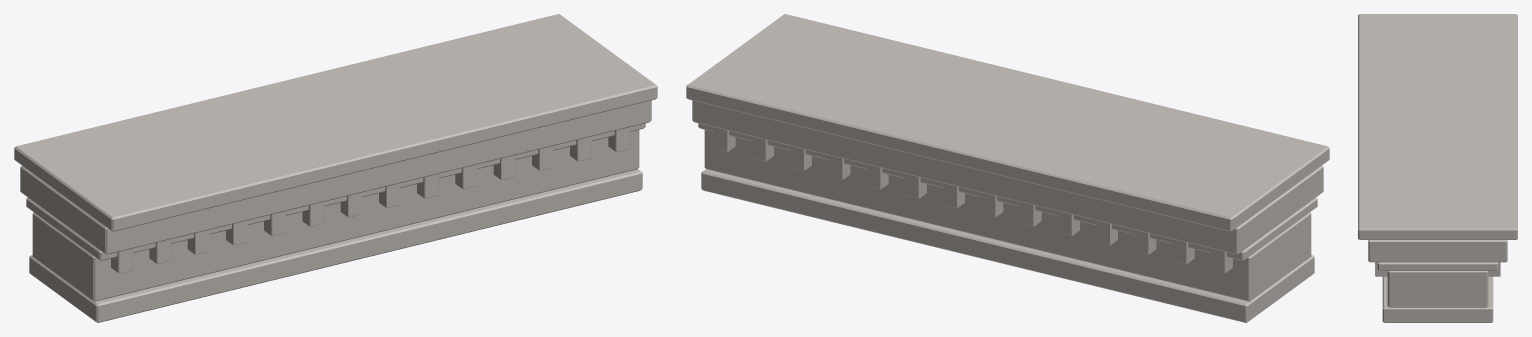
The model's file is desktop.glb.
The picture shows the model from 3 angles, left to right: view 1: azimuth 30°, elevation 25°; view 2: azimuth 150°, elevation 25°; view 3: azimuth 270°, elevation 25°; orthographic projection. The views are drawn at different scales.
Size of the model in its own units: 3 by 0.6125 by 0.94.
1 material, 1 textured.
